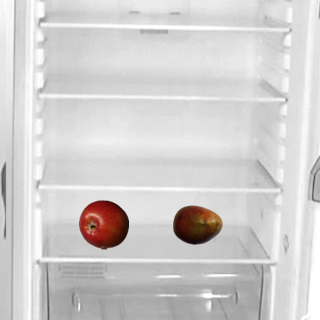Apple Braeburn: (78, 199, 128, 249)
Mango Red: (172, 199, 222, 249)
